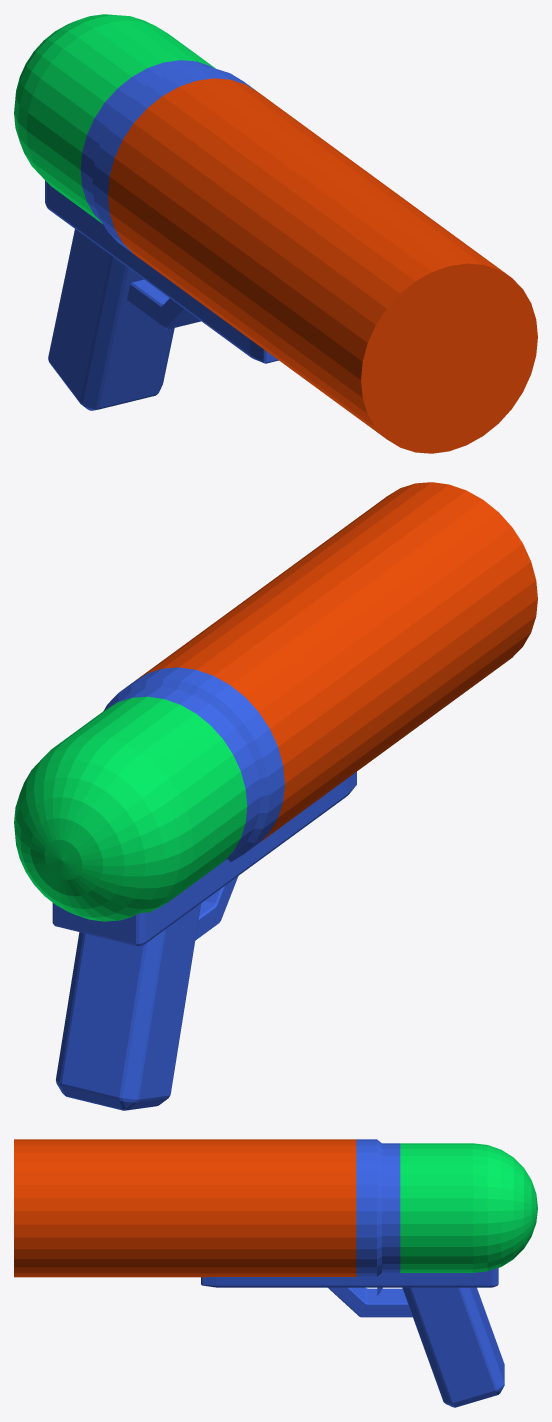
The model's file is gun2.fbx.
3 renders of one model, top to bottom at view 1: azimuth 30°, elevation 25°; view 2: azimuth 150°, elevation 25°; view 3: azimuth 270°, elevation 25°, orthographic. The views are drawn at different scales.
Parts seen in each view (by area): view 1: Gun, Handle; view 2: Gun, Handle; view 3: Gun, Handle.
Boxes of the visible parts, x1,y1,x2,y2 form: Gun: (14,14,537,453); Handle: (45,180,278,410); Gun: (14,482,537,921); Handle: (52,772,356,1110); Gun: (14,1139,537,1277); Handle: (201,1267,504,1407).
Size of the model in its own units: 24.08 by 48.73 by 91.27.
